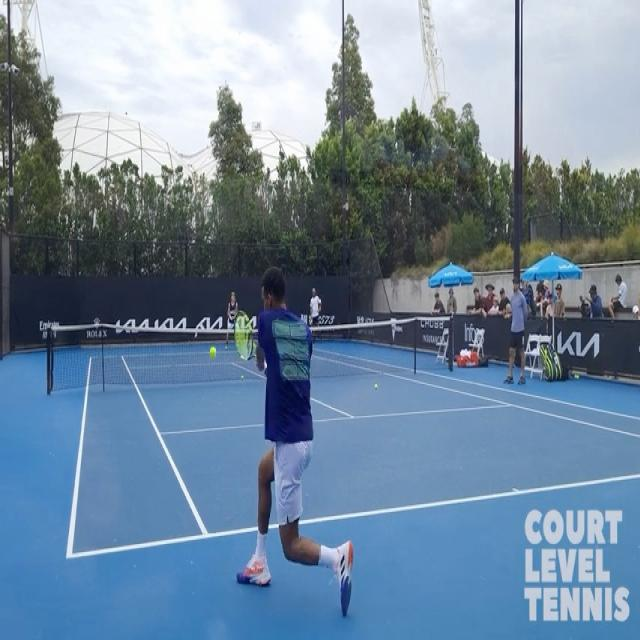backhand-stroke: (216, 260, 370, 626)
